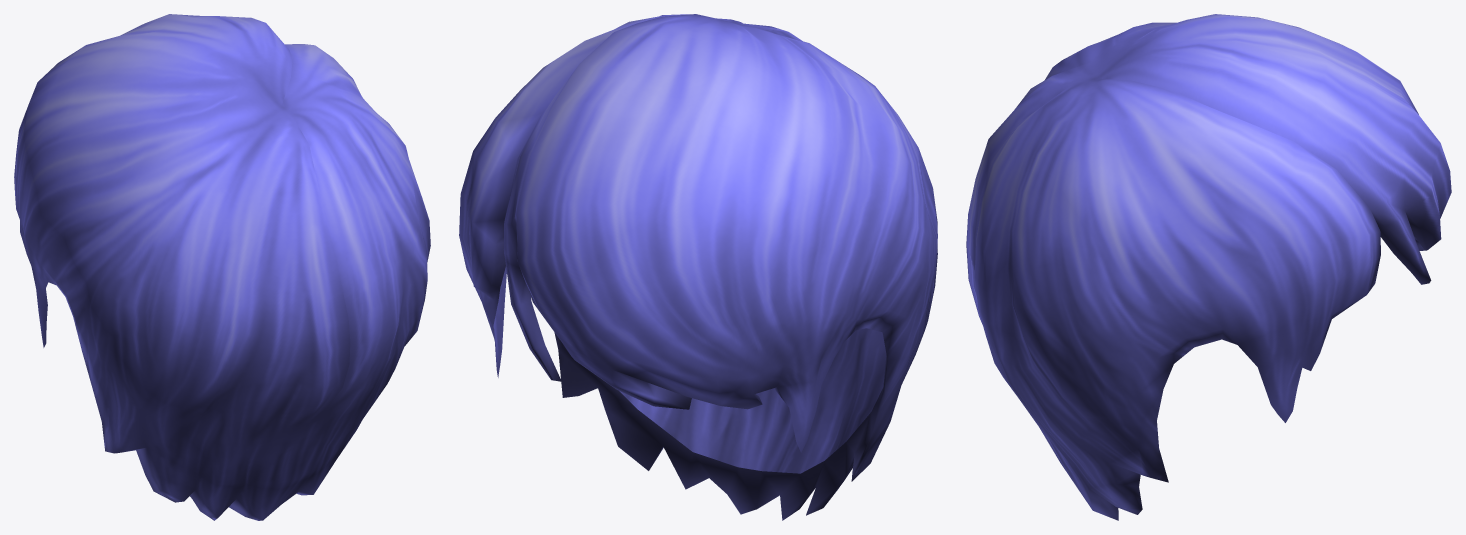
The model's file is Hair_Male_004_textured_sky.glb.
3 views of the same model, side by side, from view 1: azimuth 30°, elevation 25°; view 2: azimuth 150°, elevation 25°; view 3: azimuth 270°, elevation 25° (orthographic). The views are drawn at different scales.
Parts seen in each view (by area): view 1: Hair_Male_004; view 2: Hair_Male_004; view 3: Hair_Male_004.
Boxes of the visible parts, x1,y1,x2,y2 form: Hair_Male_004: (14,14,430,520); Hair_Male_004: (459,14,937,520); Hair_Male_004: (966,14,1451,520).
Size of the model in its own units: 0.189 by 0.2477 by 0.2273.
1 material, 1 textured.
